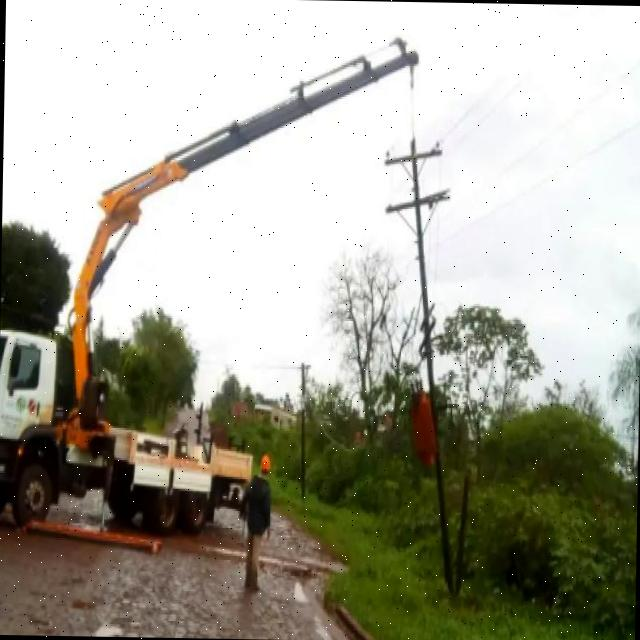Broken Pole: (382, 136, 453, 585)
